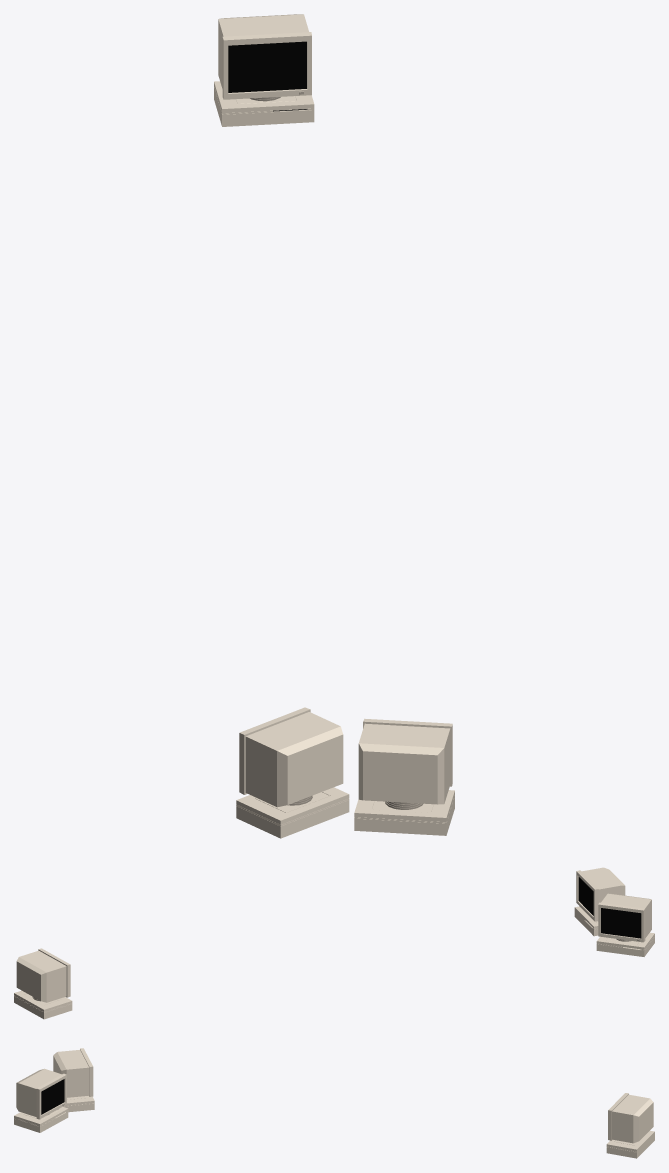
The model's file is компы.fbx.
3 renders of one model, top to bottom at view 1: azimuth 30°, elevation 25°; view 2: azimuth 150°, elevation 25°; view 3: azimuth 270°, elevation 25°, orthographic. The views are drawn at different scales.
Parts seen in each view (by area): view 1: Cube.045, Cube.042, Cube.030, Cube.046, Cube.043, Cube.031; view 2: Cube.030, Cube.045, Cube.042, Cube.031, Cube.046, Cube.043; view 3: Cube.042, Cube.030, Cube.045, Cube.043, Cube.031, Cube.046.
Boxes of the visible parts, <box> form: Cube.045: <box>239,707,343,807</box>; Cube.042: <box>358,718,452,804</box>; Cube.030: <box>218,14,311,99</box>; Cube.046: <box>236,787,349,838</box>; Cube.043: <box>354,790,454,835</box>; Cube.031: <box>214,81,314,126</box>; Cube.030: <box>16,948,70,1002</box>; Cube.045: <box>598,893,651,942</box>; Cube.042: <box>576,867,625,921</box>; Cube.031: <box>14,990,72,1019</box>; Cube.046: <box>596,932,654,956</box>; Cube.043: <box>574,906,598,936</box>; Cube.042: <box>16,1068,66,1119</box>; Cube.030: <box>608,1093,653,1143</box>; Cube.045: <box>53,1048,93,1097</box>; Cube.043: <box>14,1107,68,1132</box>; Cube.031: <box>606,1130,654,1158</box>; Cube.046: <box>63,1096,94,1112</box>.
Size of the model in its own units: 4716 by 2643 by 1029.
